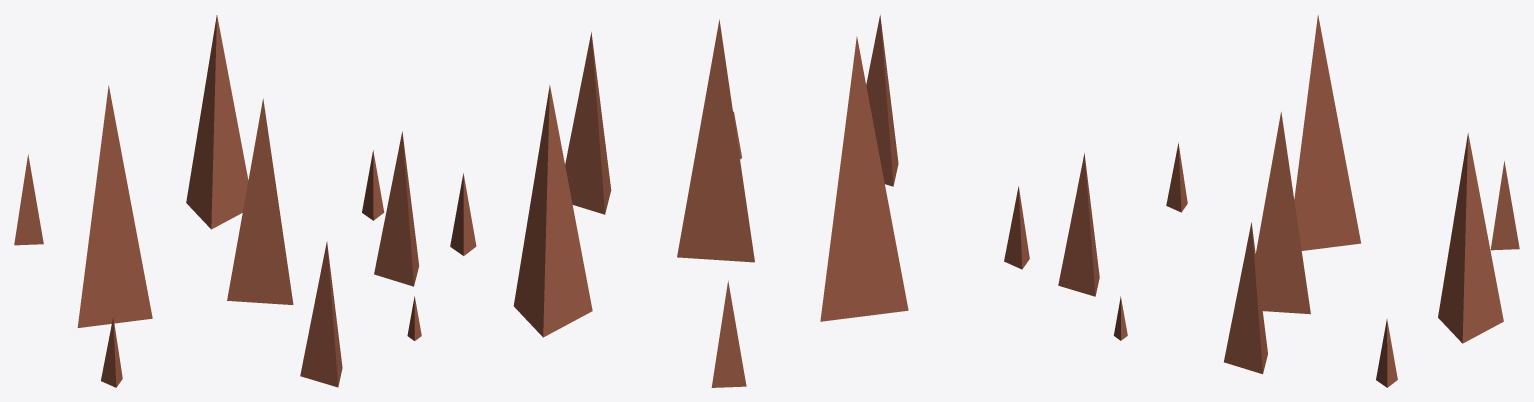
File: world_4_grass_1.dae
3 views of the same model, side by side, from view 1: azimuth 30°, elevation 25°; view 2: azimuth 150°, elevation 25°; view 3: azimuth 270°, elevation 25° (orthographic). The views are drawn at different scales.
Parts seen in each view (by area): view 1: grass_1; view 2: grass_1; view 3: grass_1.
Boxes of the visible parts, <box> form: grass_1: <box>14,15,421,387</box>; grass_1: <box>450,15,1029,387</box>; grass_1: <box>1058,15,1519,387</box>.
Size of the model in its own units: 0.3435 by 0.3635 by 0.1957.
